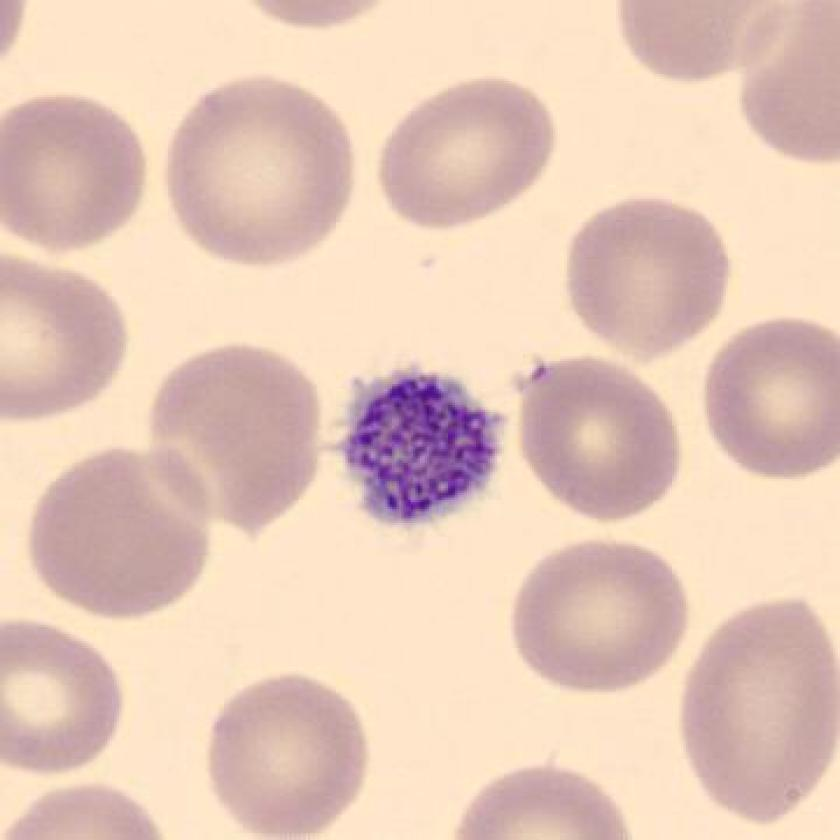platelets: (328, 357, 514, 538)
